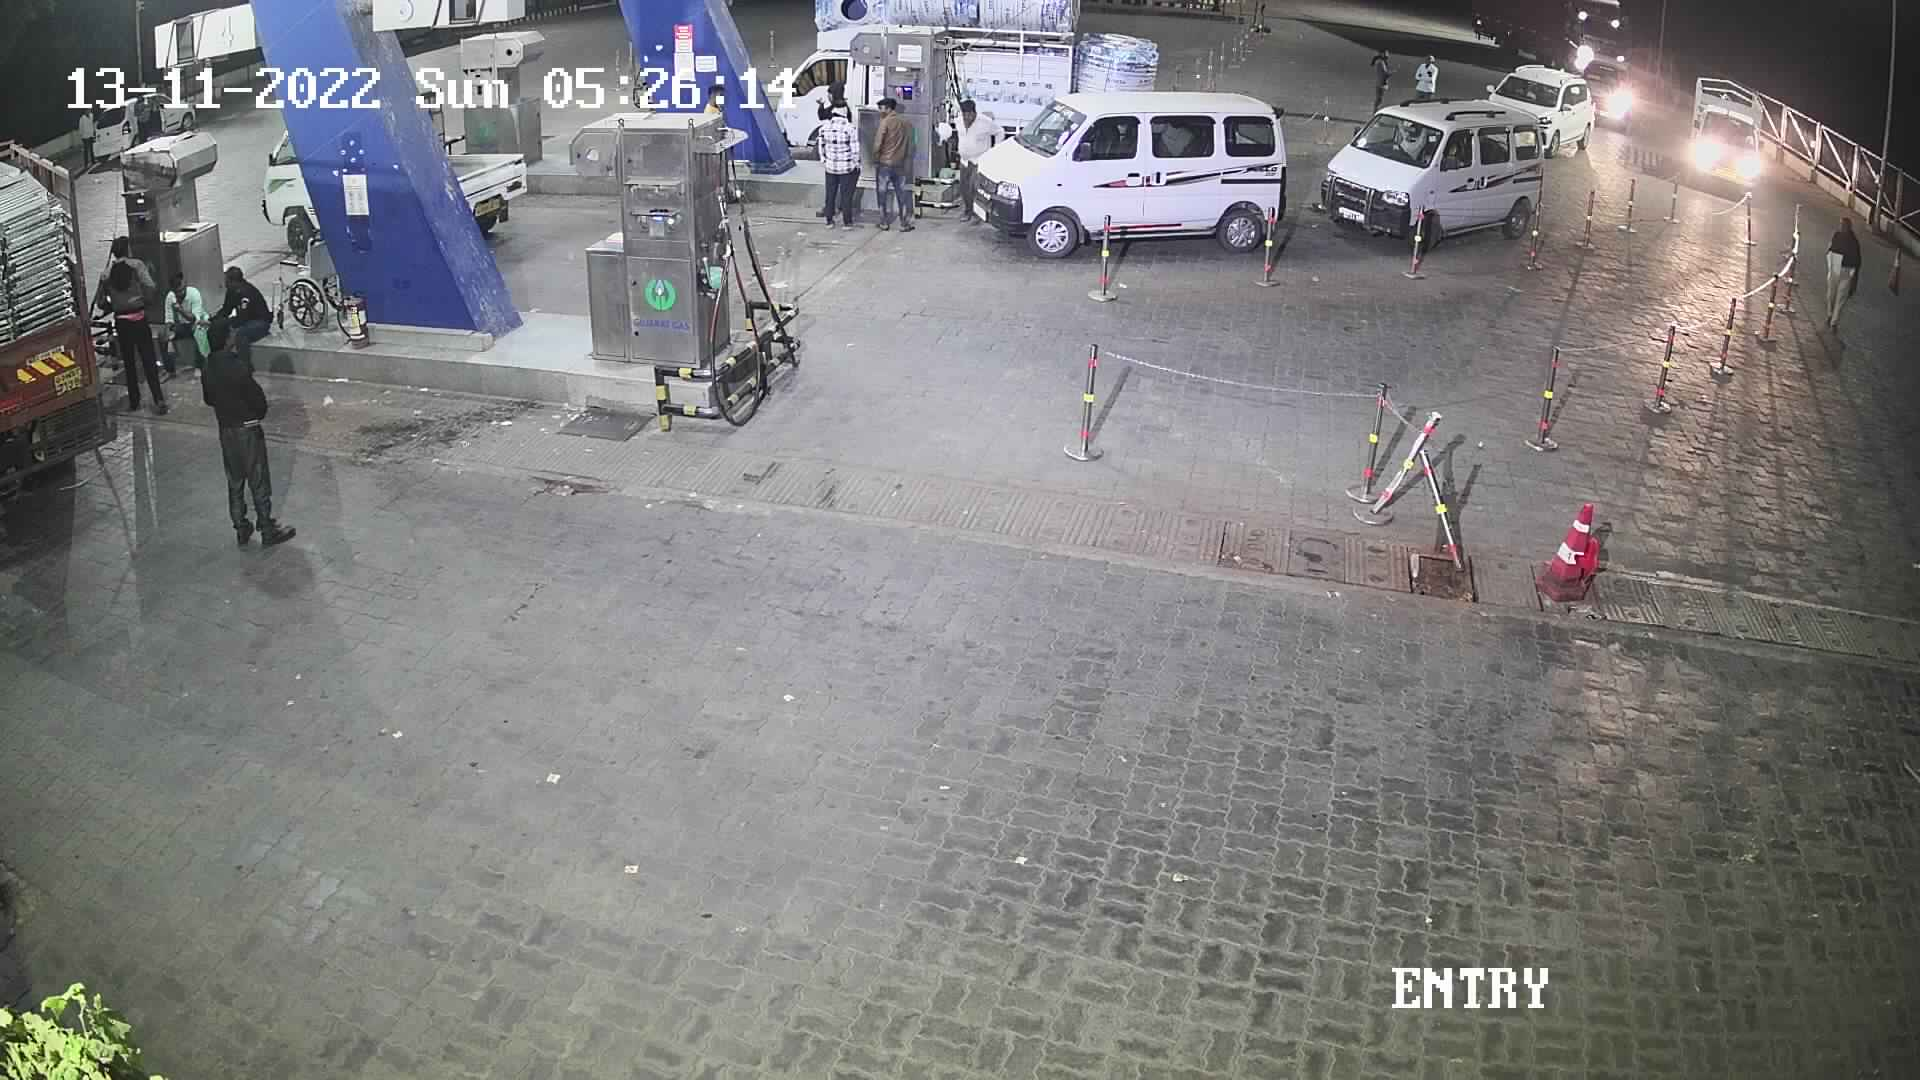Car: (955, 80, 1298, 266), (1309, 84, 1557, 257), (401, 71, 533, 248), (752, 1, 864, 171), (1673, 71, 1768, 210), (1478, 55, 1600, 160), (80, 80, 202, 171), (1559, 45, 1644, 142)
HMV: (0, 121, 116, 505), (1455, 0, 1655, 94)
